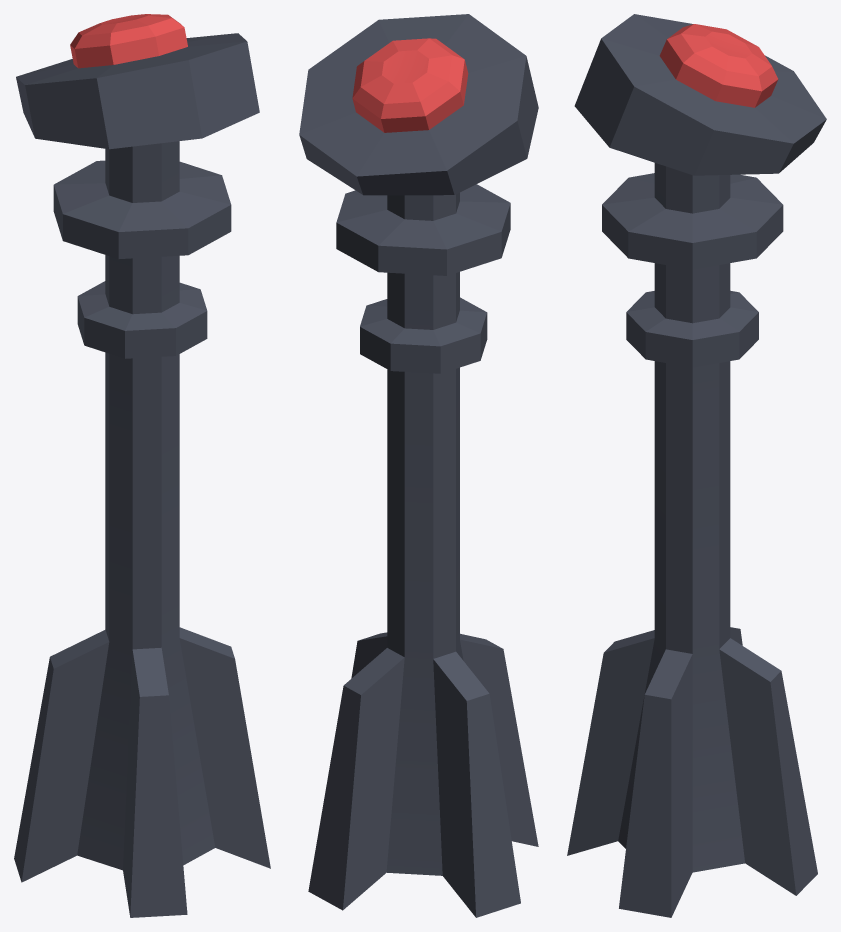
File: PowerSwitch0219.fbx
The picture shows the model from 3 angles, left to right: view 1: azimuth 30°, elevation 25°; view 2: azimuth 150°, elevation 25°; view 3: azimuth 270°, elevation 25°; orthographic projection.
Parts seen in each view (by area): view 1: Foot, Top, MidBand, LowBand, Button; view 2: Foot, Top, MidBand, Button, LowBand; view 3: Foot, Top, MidBand, Button, LowBand.
Boxes of the visible parts, box(x1,y1,x2,y2) form: Foot: box(14, 141, 270, 917); Top: box(16, 33, 259, 149); MidBand: box(53, 160, 231, 258); LowBand: box(77, 281, 207, 358); Button: box(70, 14, 187, 68); Foot: box(308, 192, 538, 917); Top: box(299, 14, 538, 195); MidBand: box(336, 184, 510, 275); Button: box(352, 38, 468, 132); LowBand: box(360, 297, 487, 373); Foot: box(567, 163, 817, 917); Top: box(574, 14, 826, 175); MidBand: box(602, 173, 783, 269); Button: box(659, 24, 778, 107); LowBand: box(626, 290, 758, 367).
Size of the model in its own units: 66.42 by 243 by 68.75.
